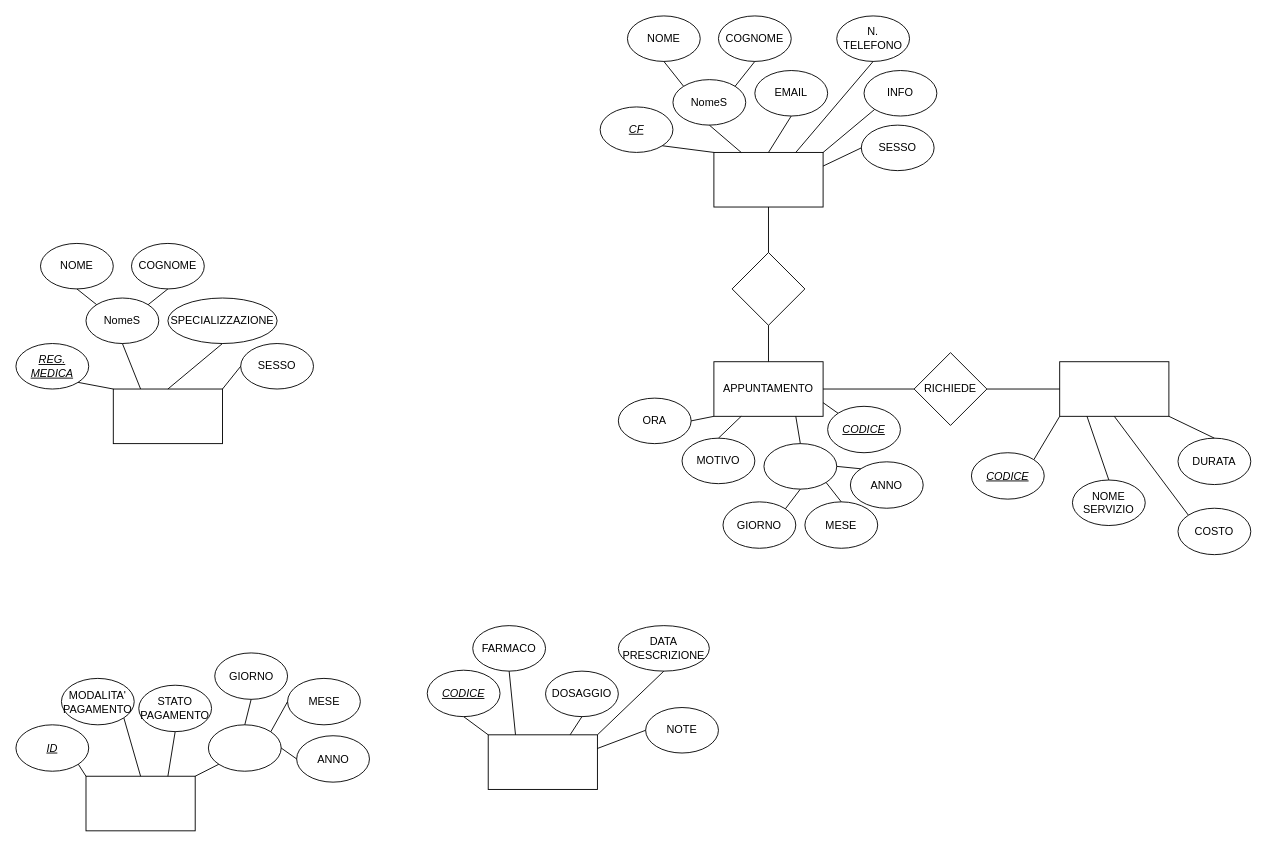
Image size: 1267x847. Some labels were removed from this diagram. Here are the shapes that lost their labels. From the top down, the centre of each, then its label:
the point at 768,179: PAZIENTE
the point at 768,288: PRENOTA
the point at 1114,388: SERVIZIO
the point at 167,416: MEDICO
the point at 800,466: DATA
the point at 244,747: DATA EMISSIONE
the point at 542,761: PRESCRIZIONE
the point at 140,803: FATTURA
